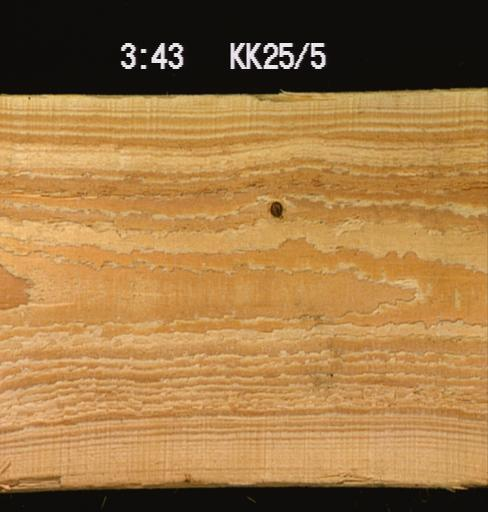dry_knot: (267, 199, 283, 217)
wave: (130, 476, 486, 489), (243, 92, 336, 100)
